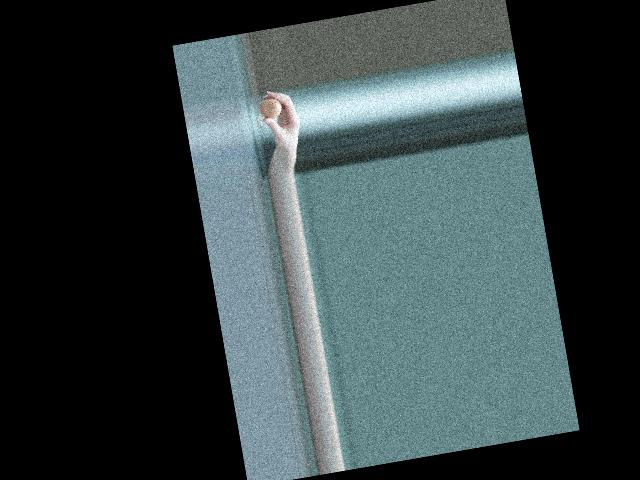egg: (258, 96, 283, 120)
